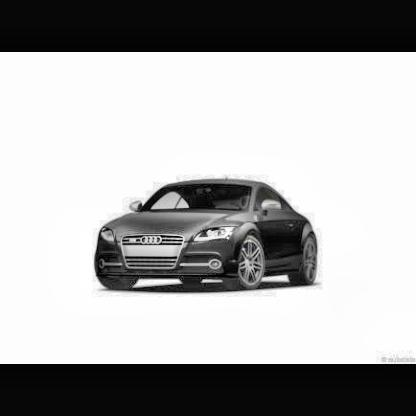Audi TTS Coupe 2012: (95, 179, 320, 291)
